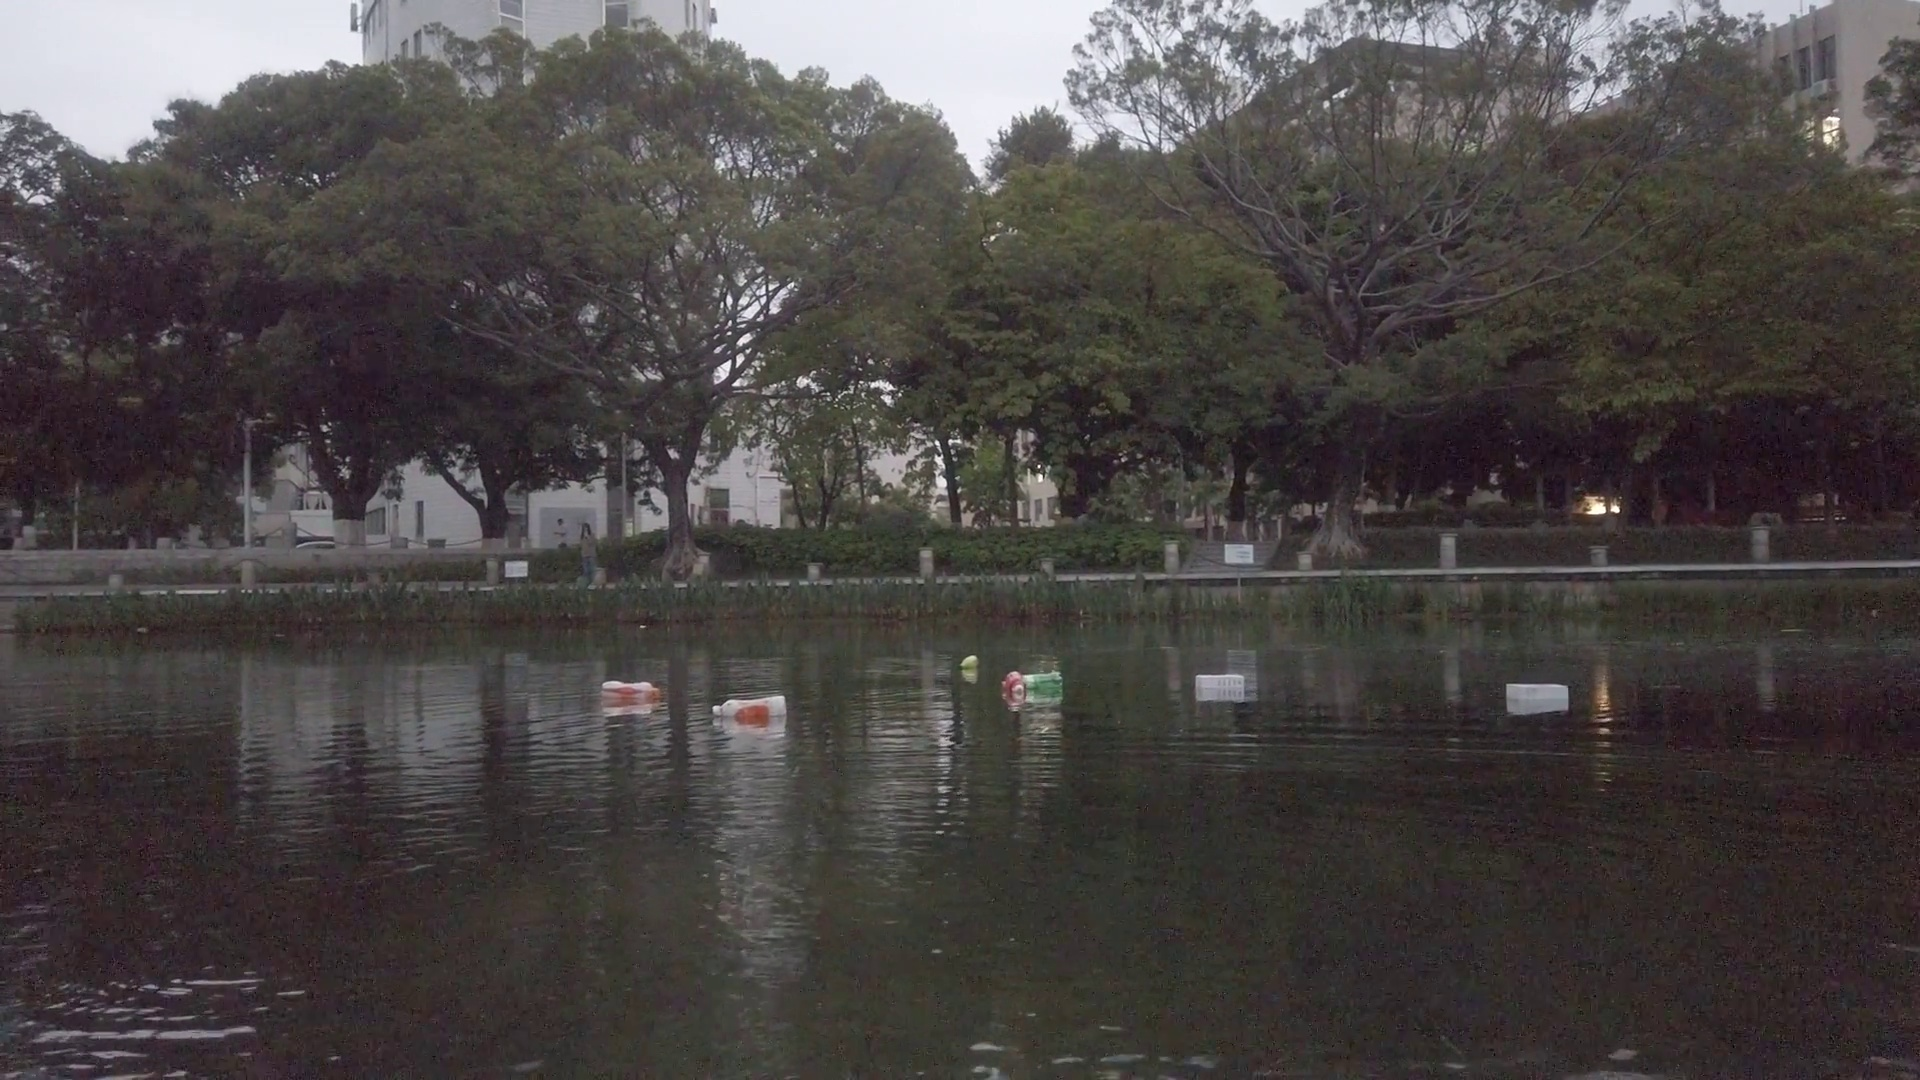bottle: (711, 694, 791, 720), (603, 676, 661, 702), (1022, 671, 1062, 691), (1006, 673, 1025, 698), (961, 654, 980, 670)
carton: (1505, 682, 1572, 705), (1196, 673, 1245, 694)
